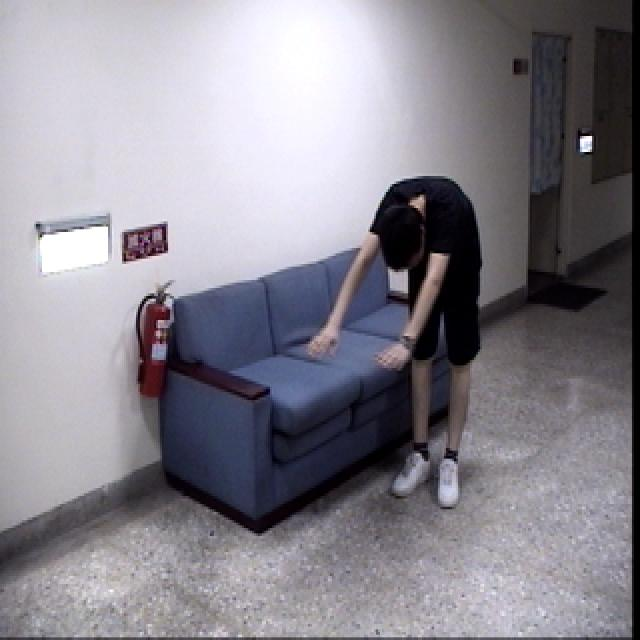bend: (301, 163, 494, 516)
